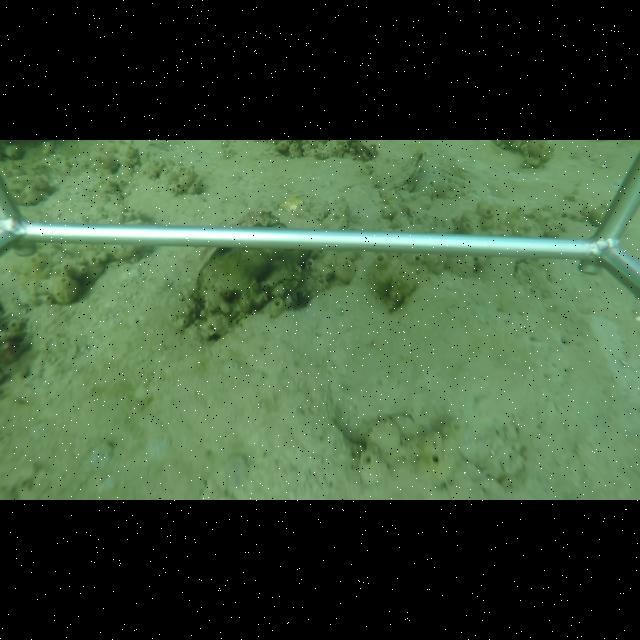Oyster-Closed: (379, 151, 428, 195)
